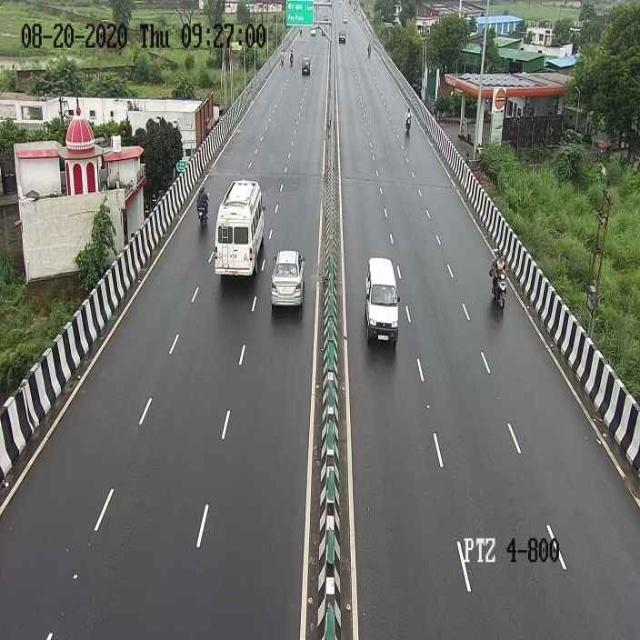car: (359, 249, 407, 353), (268, 244, 306, 311)
